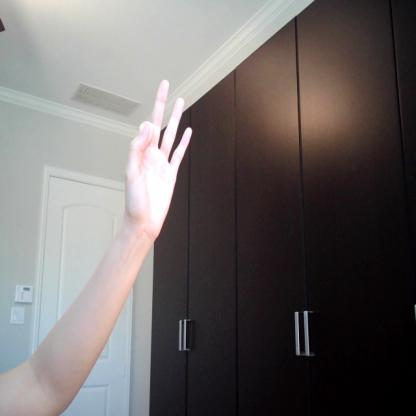nine: (123, 73, 198, 245)
